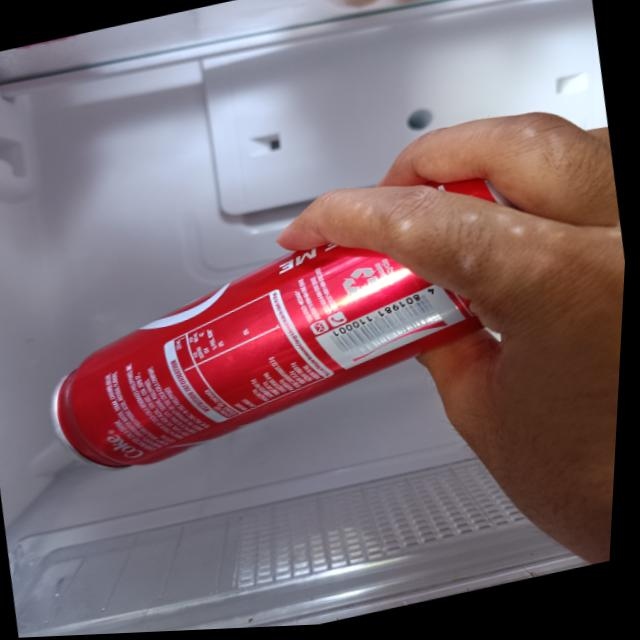coke: (28, 167, 548, 487)
